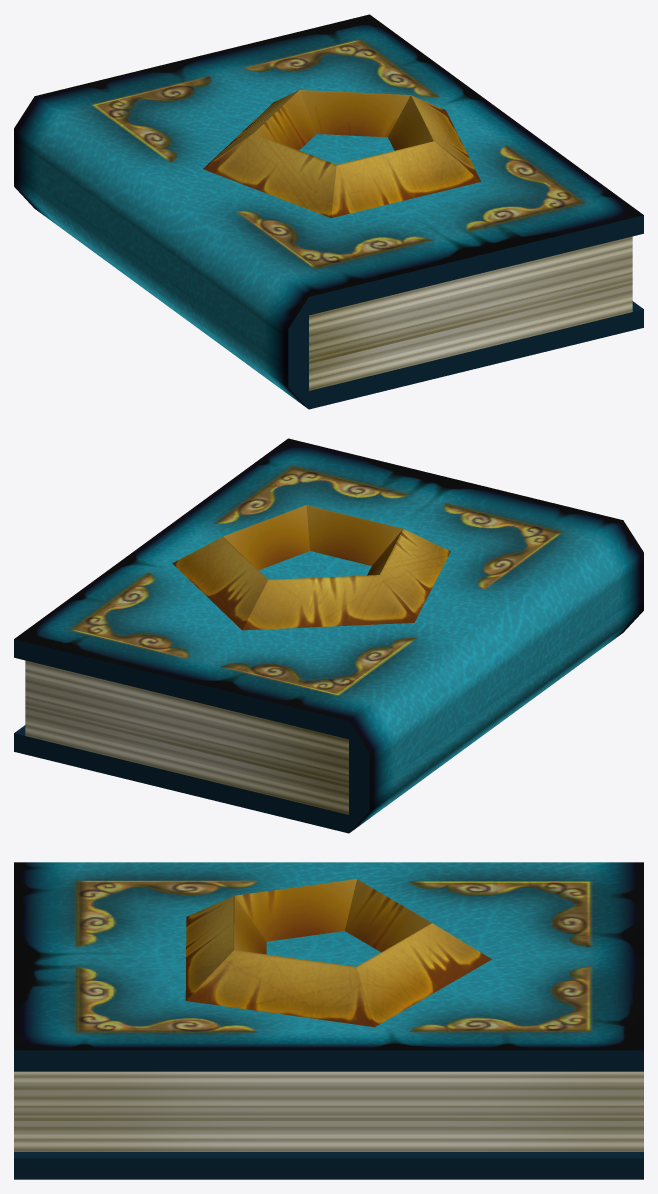
The model's file is Book1.fbx.
The picture shows the model from 3 angles, top to bottom: view 1: azimuth 30°, elevation 25°; view 2: azimuth 150°, elevation 25°; view 3: azimuth 270°, elevation 25°; orthographic projection. The views are drawn at different scales.
Parts seen in each view (by area): view 1: polySurface4; view 2: polySurface4; view 3: polySurface4.
Part boxes in pixels (left/top/right/bottom): polySurface4: left=14, top=14, right=643, bottom=409; polySurface4: left=14, top=438, right=643, bottom=833; polySurface4: left=14, top=862, right=643, bottom=1179.
Size of the model in its own units: 15.55 by 7.34 by 20.76.
1 material, 1 textured.
